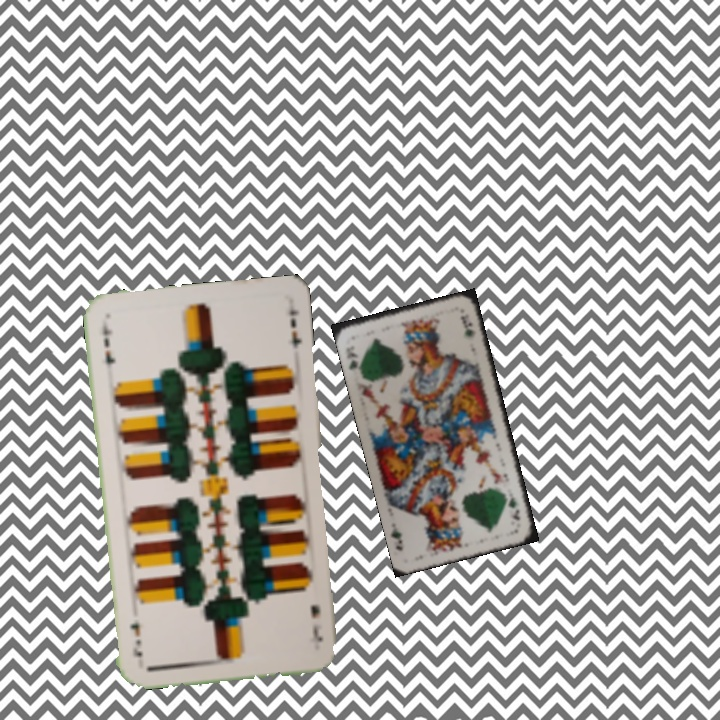E7: (98, 317, 118, 368), (306, 601, 325, 645)
GK: (341, 341, 364, 375), (504, 489, 522, 523)
